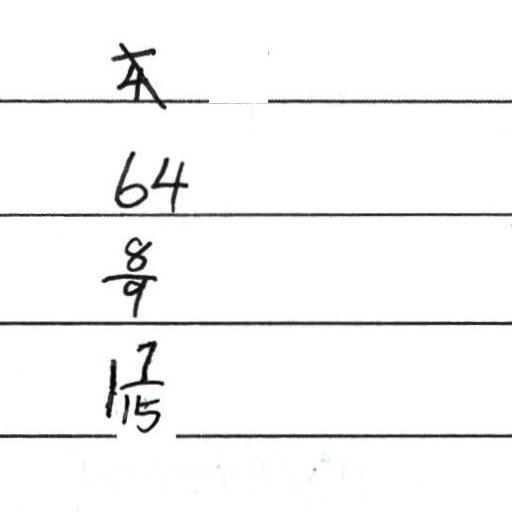ans: (97, 334, 166, 434), (108, 143, 188, 212), (97, 229, 157, 317)
